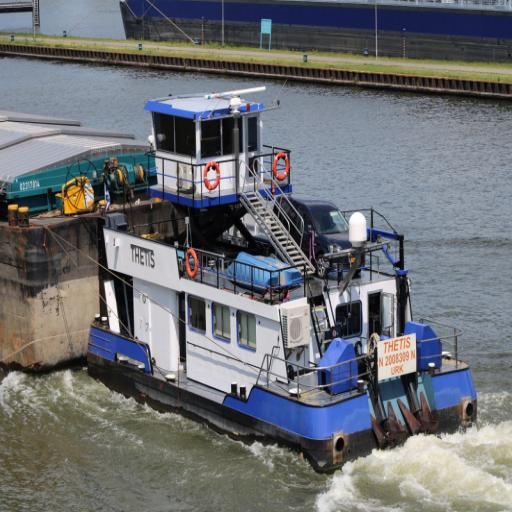tugboat: (83, 91, 483, 478)
